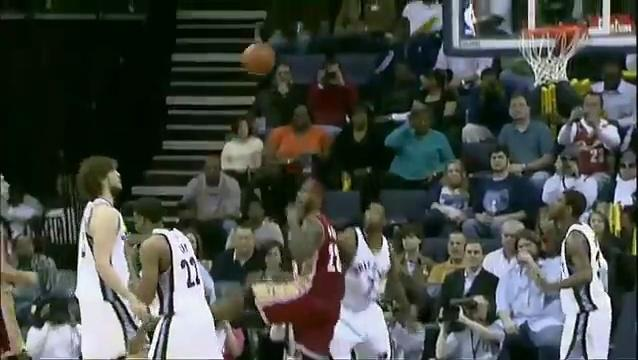Backboard: (444, 0, 638, 52)
Ball: (241, 39, 279, 77)
Basket: (513, 20, 590, 88)
Person: (225, 166, 339, 360), (66, 152, 155, 360), (120, 190, 225, 360), (527, 184, 620, 360), (334, 196, 418, 360)
